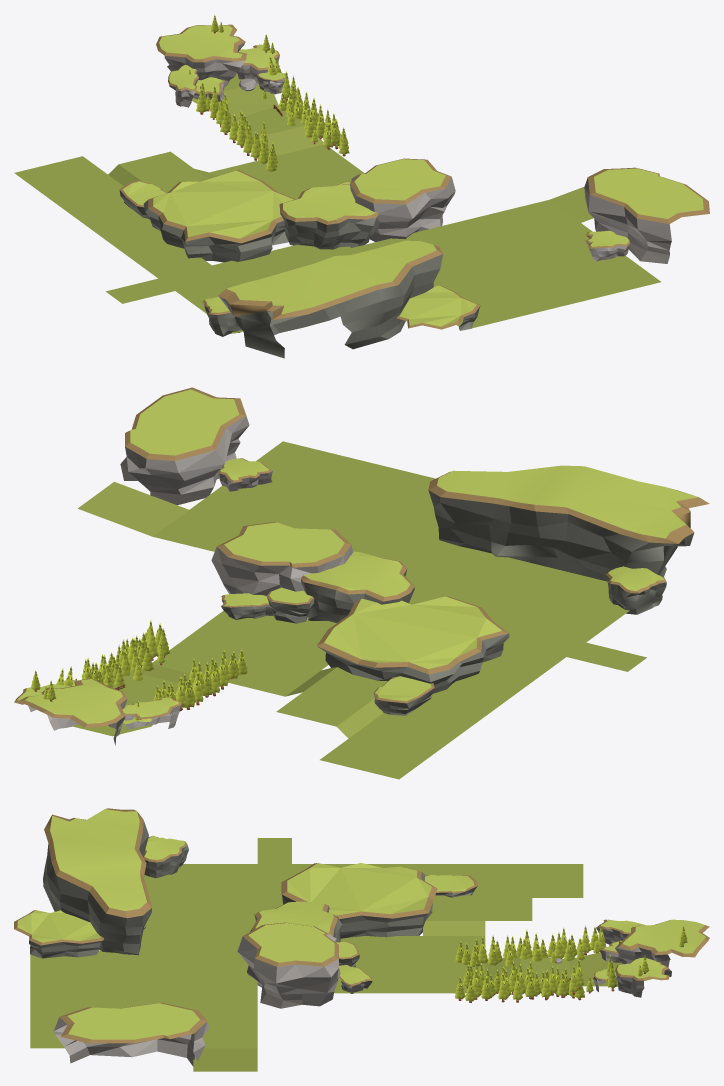
The model's file is ForestFlatBase.dae.
3 views of the same model, one above another, from view 1: azimuth 30°, elevation 25°; view 2: azimuth 150°, elevation 25°; view 3: azimuth 270°, elevation 25° (orthographic). The views are drawn at different scales.
Parts seen in each view (by area): view 1: mountains, terrain, Tree_077; view 2: mountains, terrain, Tree_077; view 3: mountains, terrain, Tree_077.
Part boxes in pixels (box(x1,y1,x2,y2)): mountains: box(119, 24, 709, 358); terrain: box(14, 73, 660, 333); Tree_077: box(188, 56, 349, 171); mountains: box(14, 387, 709, 745); terrain: box(71, 441, 646, 779); Tree_077: box(56, 620, 247, 722); mountains: box(14, 808, 709, 1066); terrain: box(30, 838, 651, 1071); Tree_077: box(455, 924, 633, 1002).
Size of the model in its own units: 26.27 by 31.22 by 3.46.
